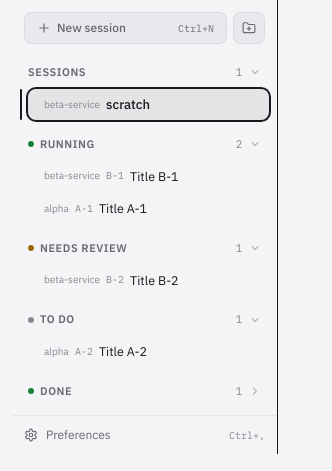
Test: UnifiedSidebar grouped by status › drives the view menu from the keyboard without moving the sidebar selection
The image size is (332, 471).
Right-click the navigation bar at (144, 234), box [12,52,277,415]
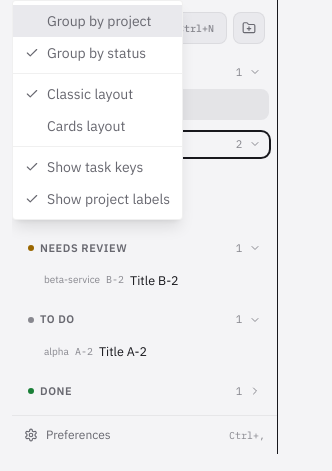
Expected: the menu item "Group by project" is shown
Press ArrowDown in the menu item "Group by project", box [13,5,182,37]
Expected: the menu item "Group by status" is shown
Press Escape in the menu item "Group by status", box [13,37,182,69]
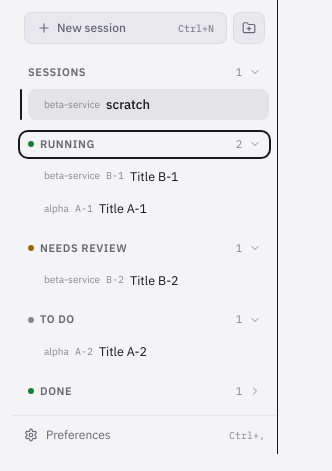
Expected: the menu is gone
